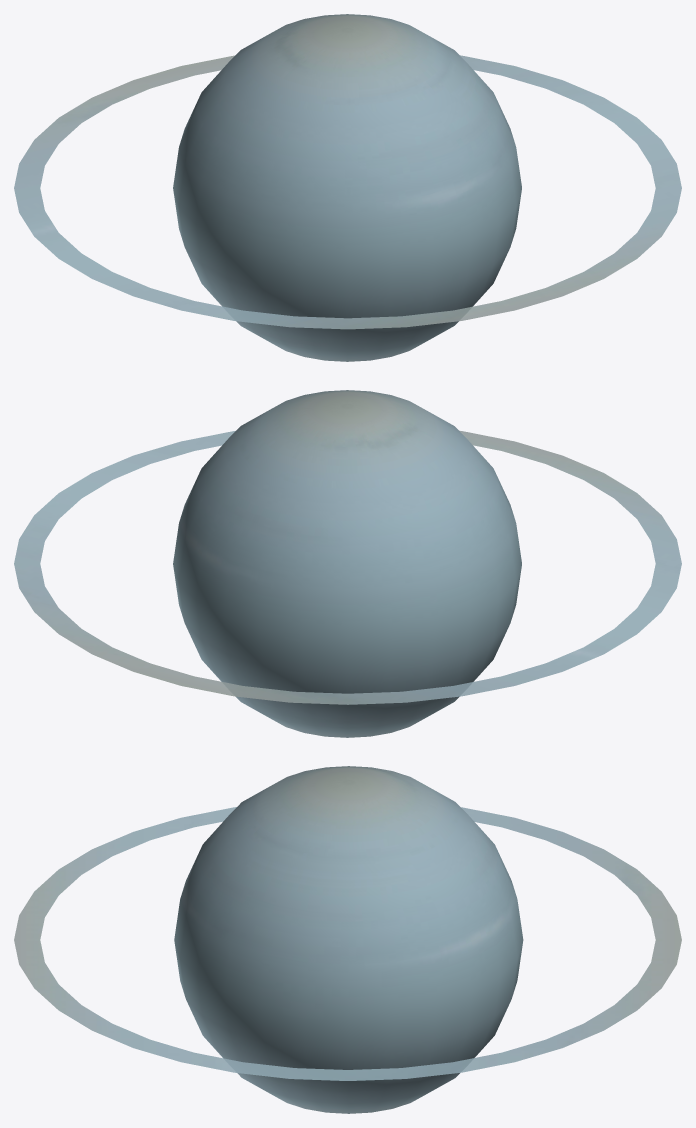
Rendered from Uranus_01.fbx.
3 views of the same model, one above another, from view 1: azimuth 30°, elevation 25°; view 2: azimuth 150°, elevation 25°; view 3: azimuth 270°, elevation 25° (orthographic).
Parts seen in each view (by area): view 1: Sphere_7, Disc_1; view 2: Sphere_7, Disc_1; view 3: Sphere_7, Disc_1.
Part boxes in pixels (left/top/right/bottom): Sphere_7: left=173, top=14, right=521, bottom=361; Disc_1: left=14, top=55, right=681, bottom=329; Sphere_7: left=173, top=390, right=521, bottom=737; Disc_1: left=14, top=430, right=681, bottom=704; Sphere_7: left=174, top=766, right=523, bottom=1113; Disc_1: left=14, top=807, right=681, bottom=1080.
Bounding box in the file's own units: 383 × 200 × 383.
Materials: 2 (2 with a texture image).
